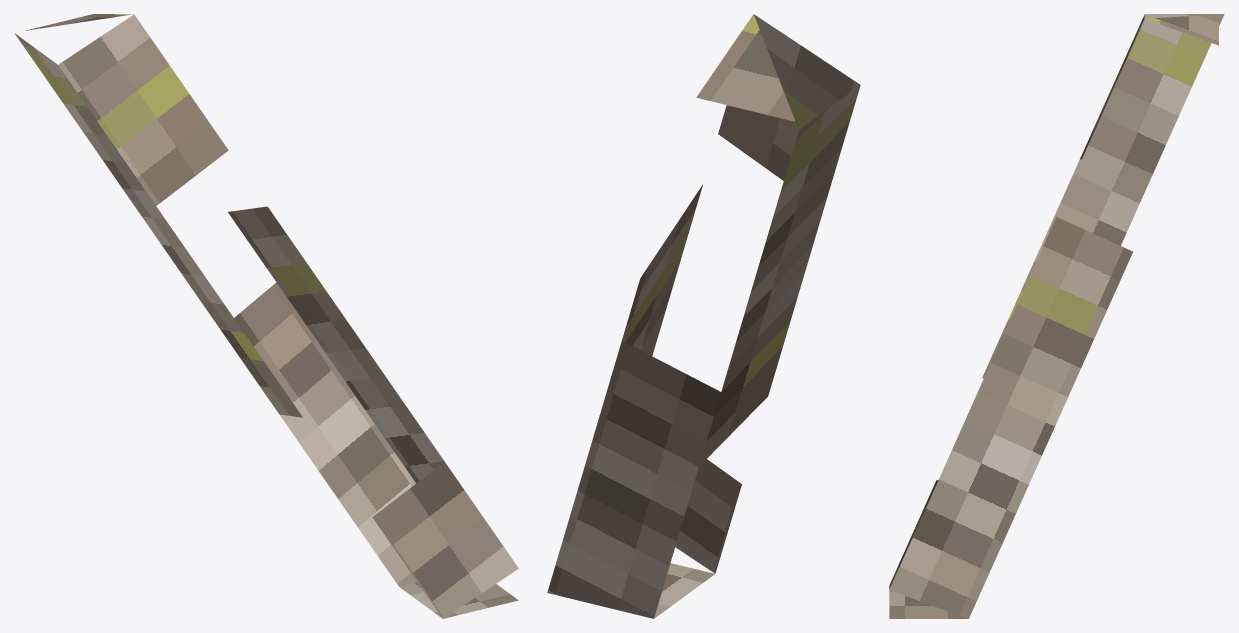
Rendered from ash_thin_branch_22.5_diagonal.obj.
3 views of the same model, side by side, from view 1: azimuth 30°, elevation 25°; view 2: azimuth 150°, elevation 25°; view 3: azimuth 270°, elevation 25° (orthographic). The views are drawn at different scales.
Parts seen in each view (by area): view 1: cube_selection; view 2: cube_selection; view 3: cube_selection.
Boxes of the visible parts, bbox=[...] form: cube_selection: bbox=[14, 14, 518, 618]; cube_selection: bbox=[547, 14, 860, 618]; cube_selection: bbox=[889, 14, 1224, 618].
Size of the model in its own units: 1.31 by 2.12 by 1.31.
